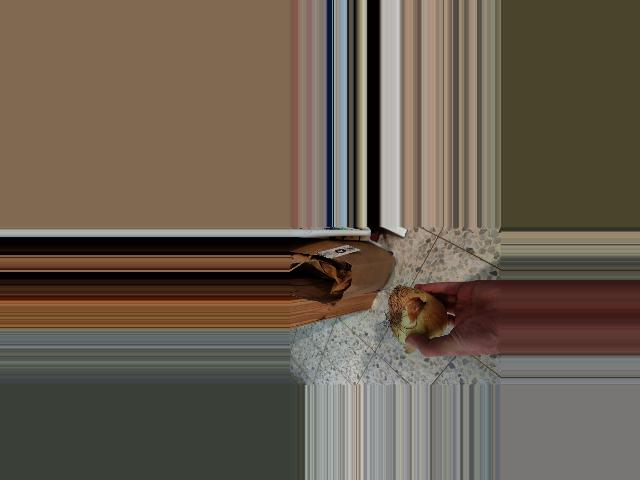onion: (386, 285, 450, 350)
